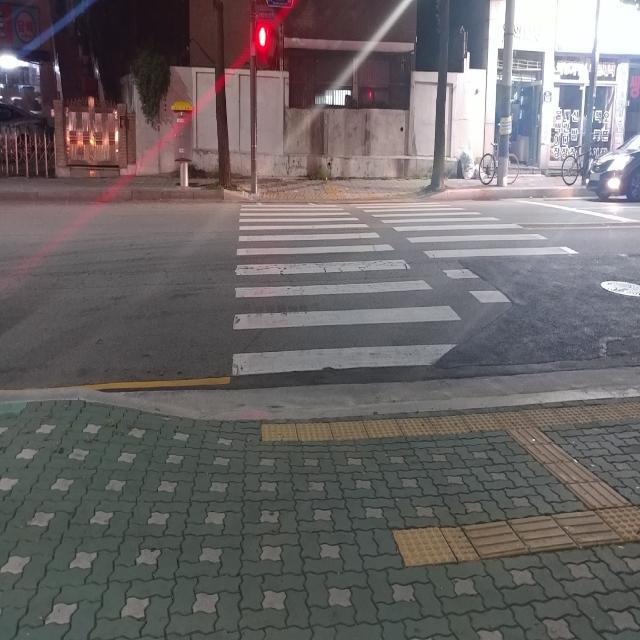빨간불: (256, 23, 270, 69)
횡단보도: (229, 197, 582, 378)
